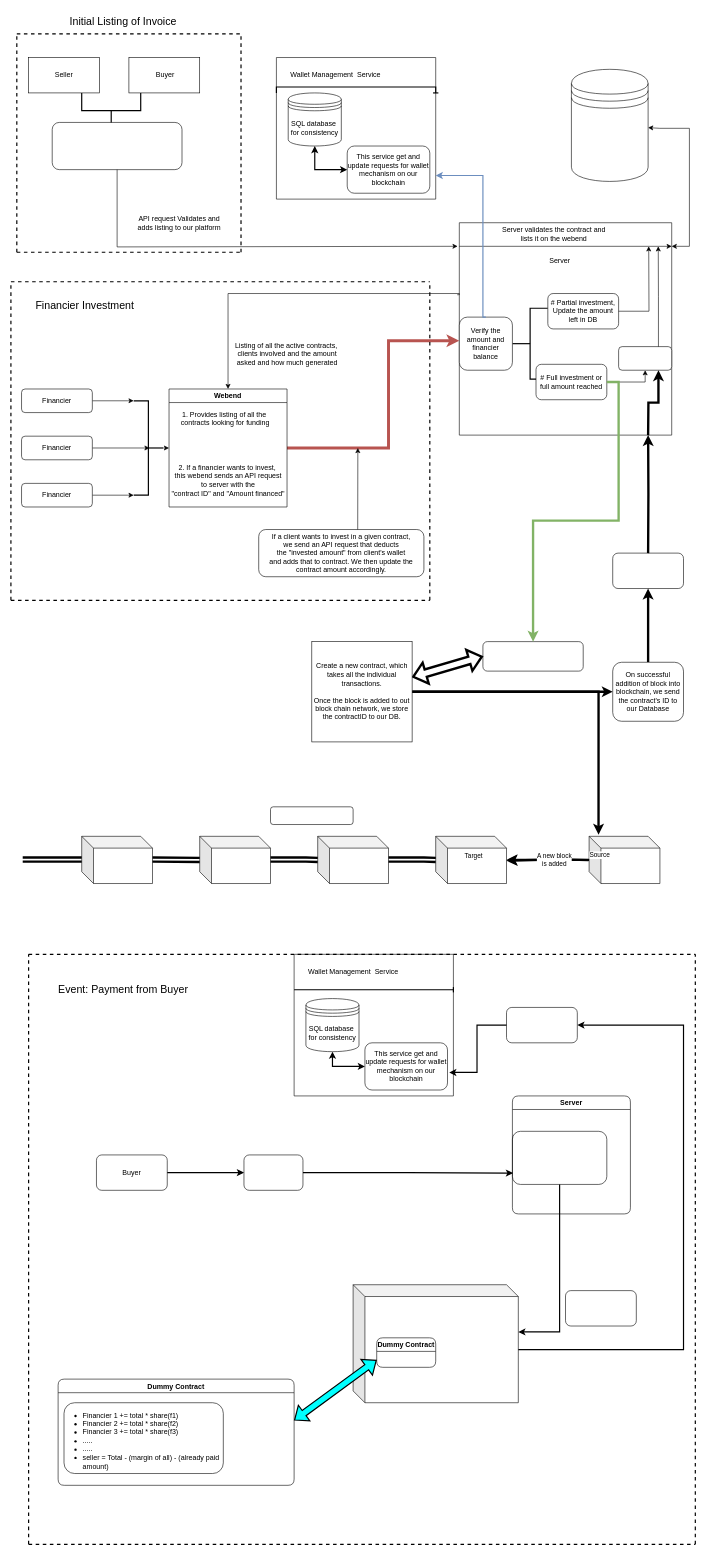
Image size: 706x1555. Some labels were removed from this diagram. Here are the shapes that lost their labels. From the top down, the box of each, then its label:
(571, 69, 648, 181): MongoDB or any document DB
(52, 122, 182, 170): New Listing for their invoice. API URL hit with their addresses and data.
(618, 346, 672, 370): Update the DB
(612, 553, 684, 589): We also add partial money into seller's account
(482, 641, 583, 671): Create a smart contract
(270, 806, 353, 825): Our Public Blockchain
(589, 836, 660, 884): Contract ID
(506, 1007, 577, 1043): Remove the money from buyer and add to the financier and seller
(243, 1154, 303, 1190): Invoice ID and total amount
(512, 1131, 607, 1184): Update the balance of buyer and executes the smart contract
(565, 1290, 636, 1326): Execution of the Contract
